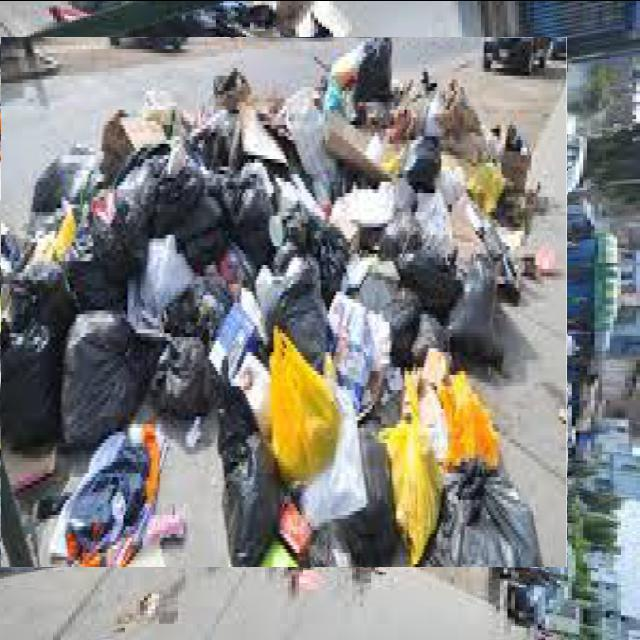Trashbag: (203, 379, 291, 565), (62, 312, 145, 453), (430, 482, 542, 574), (2, 321, 70, 456), (62, 216, 140, 326), (269, 261, 334, 353), (152, 329, 212, 419), (129, 162, 192, 242), (352, 449, 398, 548), (452, 282, 509, 357), (401, 244, 458, 318), (234, 189, 276, 259), (186, 200, 227, 271), (400, 129, 439, 193), (360, 41, 398, 101)
